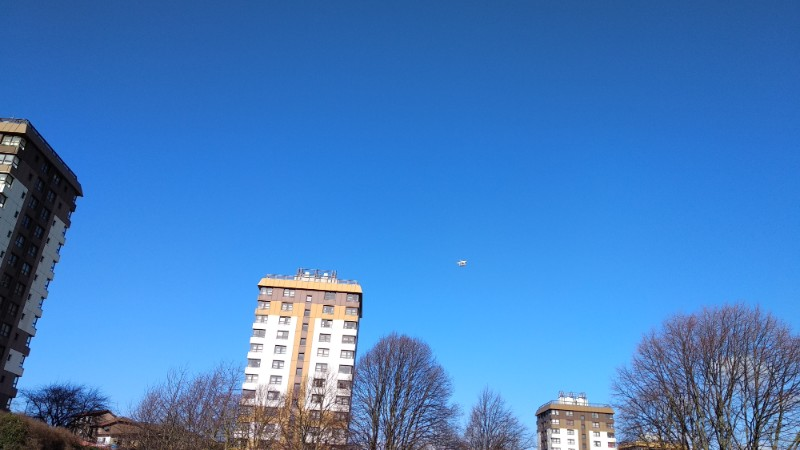drone: (456, 257, 467, 268)
